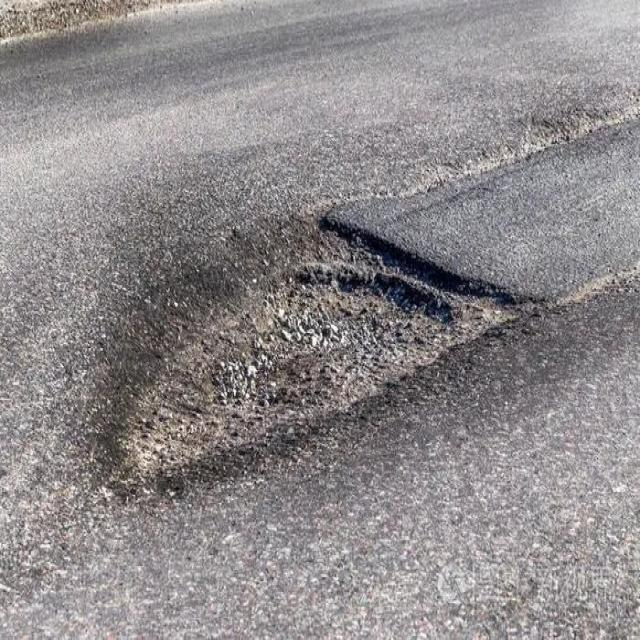Buraco: (95, 212, 549, 507)
